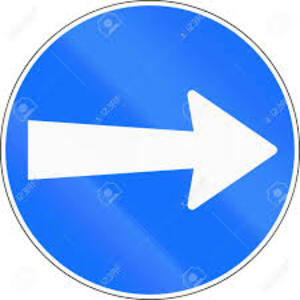trun_right: (1, 1, 299, 300)
